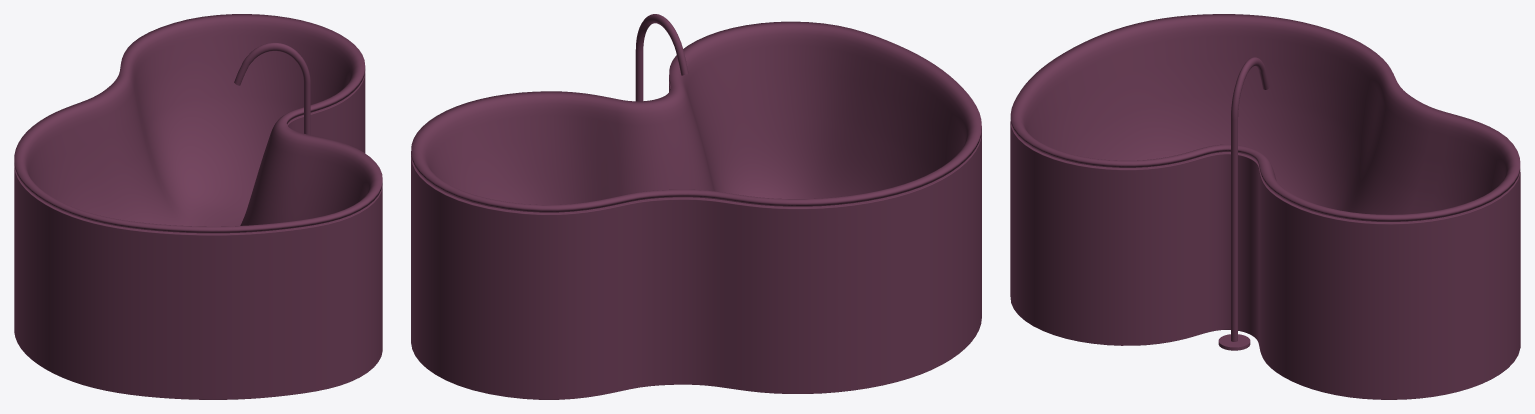
The model's file is Bath.fbx.
3 renders of one model, left to right at view 1: azimuth 30°, elevation 25°; view 2: azimuth 150°, elevation 25°; view 3: azimuth 270°, elevation 25°, orthographic. The views are drawn at different scales.
Visible parts, largest first — view 1: OBJ_MTL1:elledecor_beinspiration_05; view 2: OBJ_MTL1:elledecor_beinspiration_05; view 3: OBJ_MTL1:elledecor_beinspiration_05.
Part boxes in pixels (left/top/right/bottom): OBJ_MTL1:elledecor_beinspiration_05: left=14, top=14, right=382, bottom=399; OBJ_MTL1:elledecor_beinspiration_05: left=411, top=14, right=981, bottom=399; OBJ_MTL1:elledecor_beinspiration_05: left=1010, top=14, right=1520, bottom=399.
Bounding box in the file's own units: 76.37 × 47.28 × 80.83.
